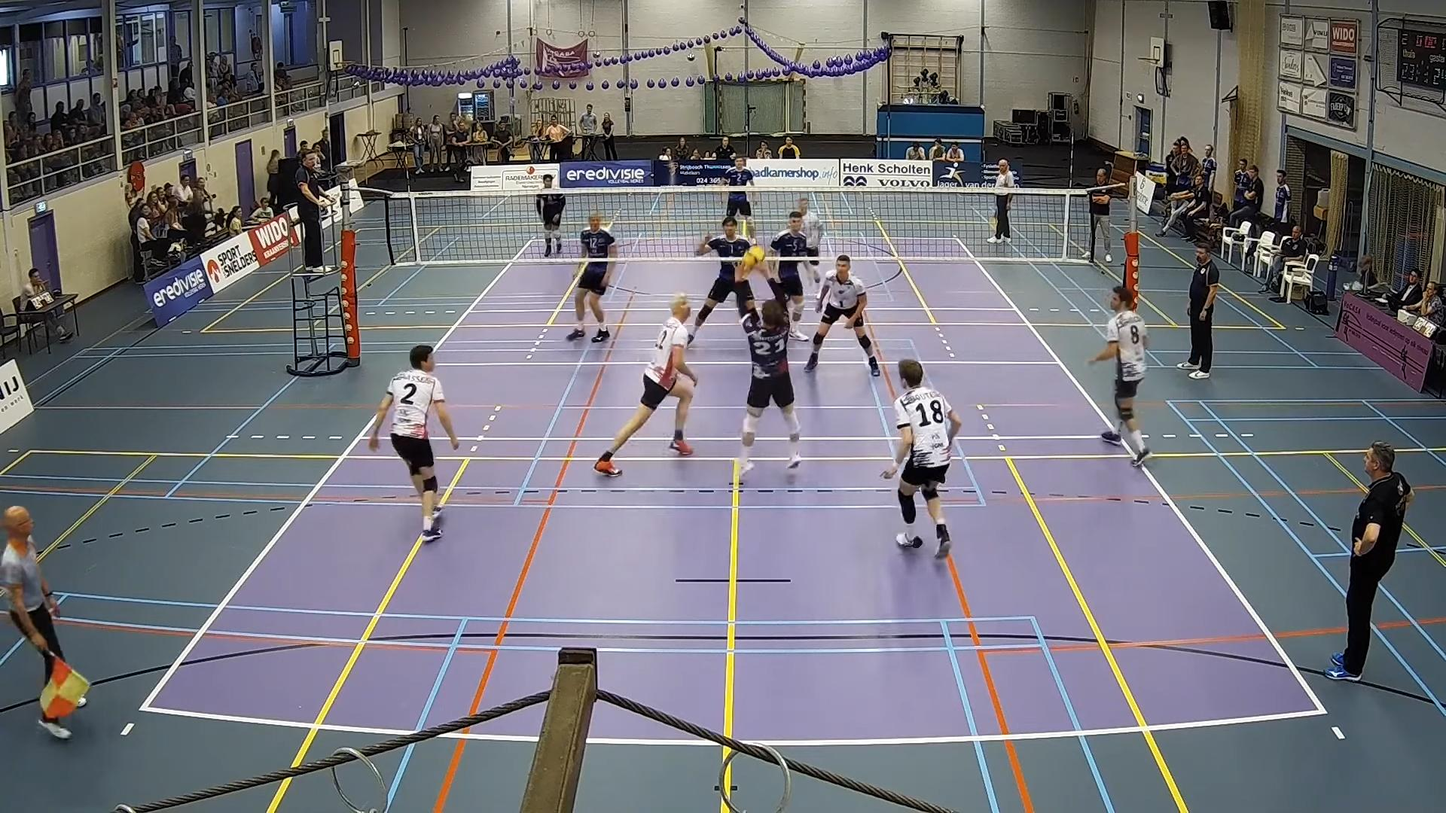ricezione: (735, 288, 814, 485)
